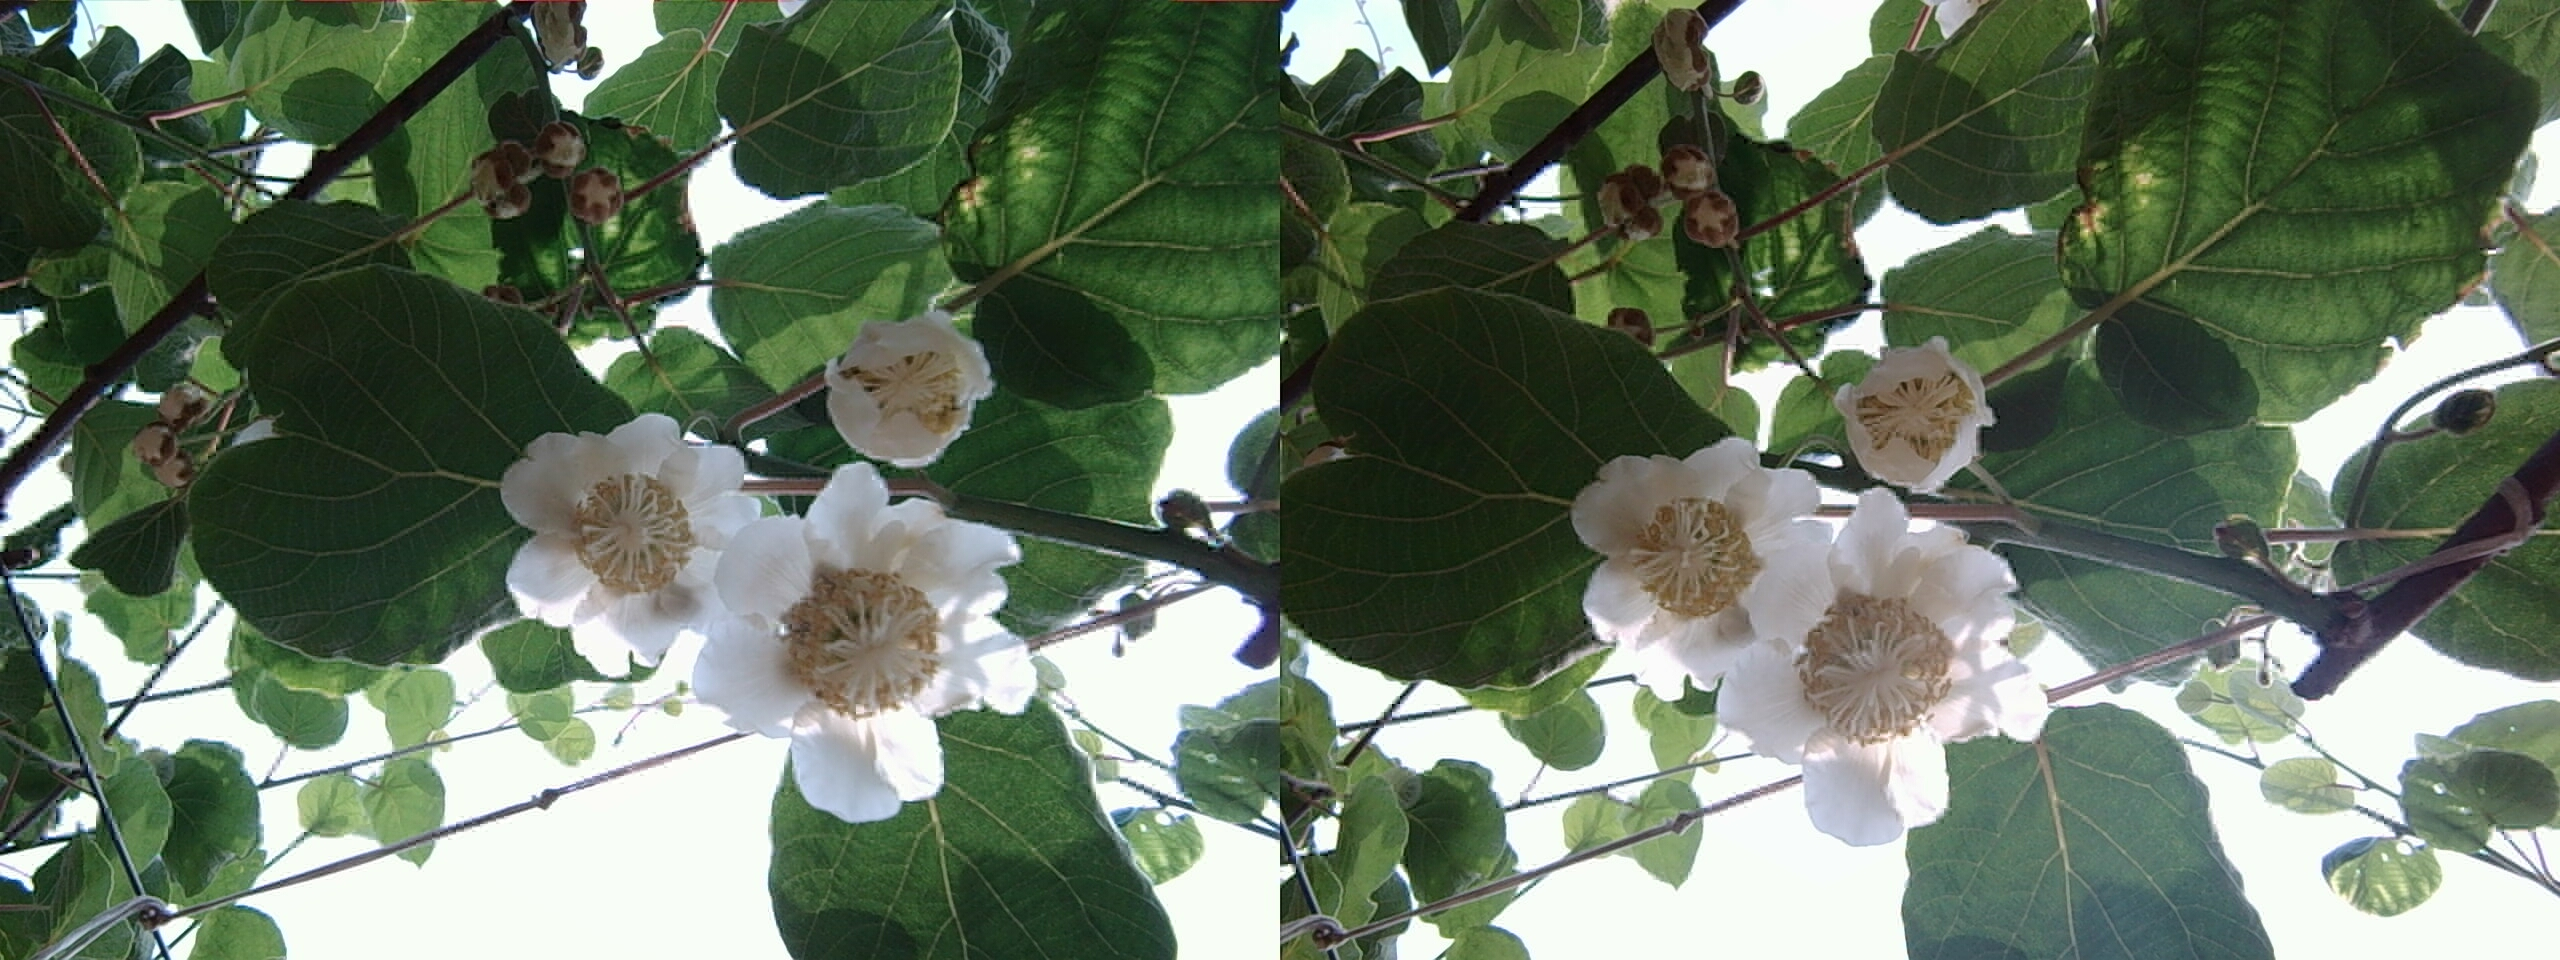flower: (696, 469, 1002, 793), (1719, 495, 2020, 820), (496, 411, 748, 642), (1571, 436, 1806, 661), (821, 307, 989, 459), (1824, 335, 1992, 483)
